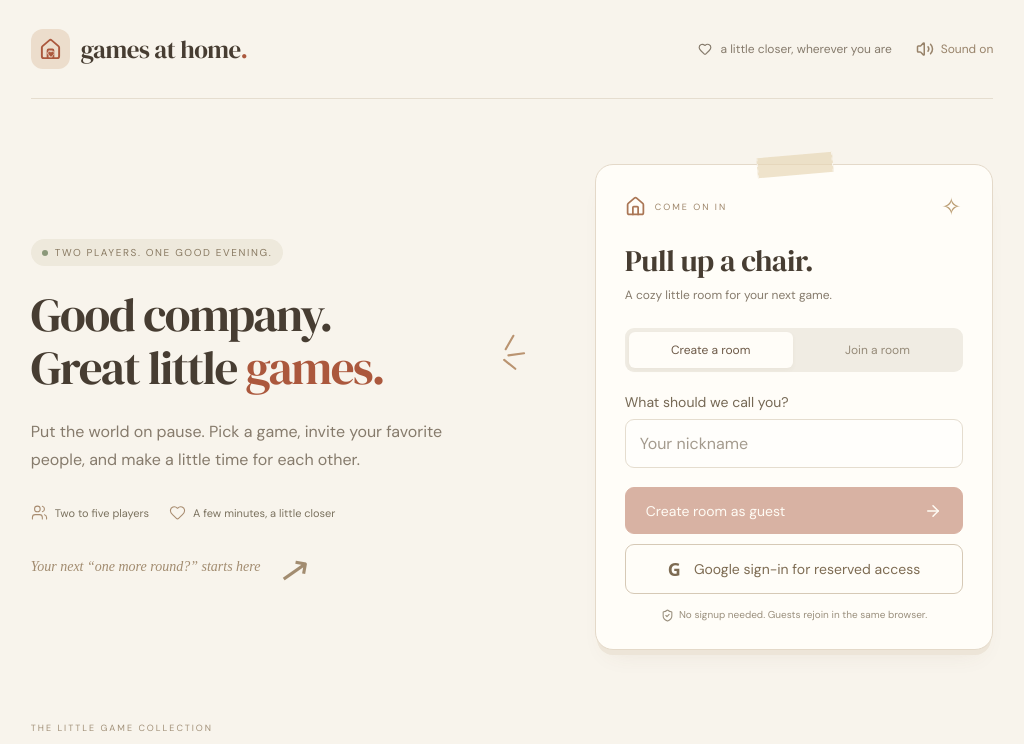
cozy home and game forms › shows the four games with guest play and optional Google sign-in
expect the heading "Good company.Great little games." is shown: met, box left=31, top=289, right=525, bottom=395
expect the button "G Google sign-in for reserved access" is enabled: met, box left=625, top=544, right=963, bottom=594
Click the button "Join a room": (877, 350) left=796, top=332, right=959, bottom=368
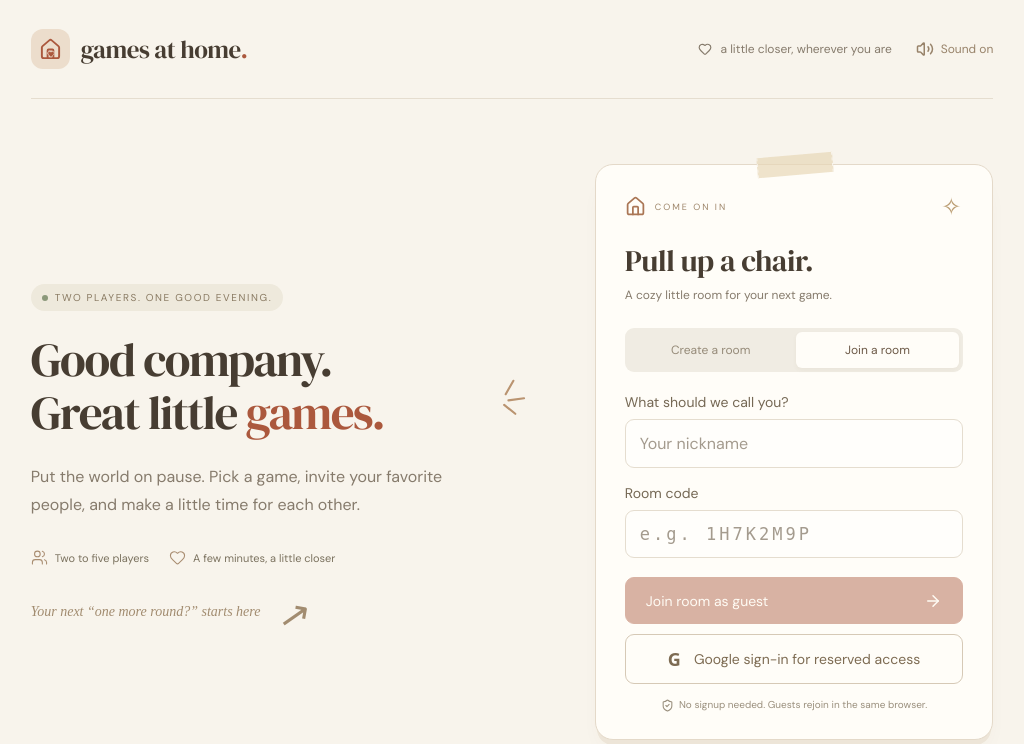
expect the field labelled "Room code" is shown: met, box left=625, top=510, right=963, bottom=558
